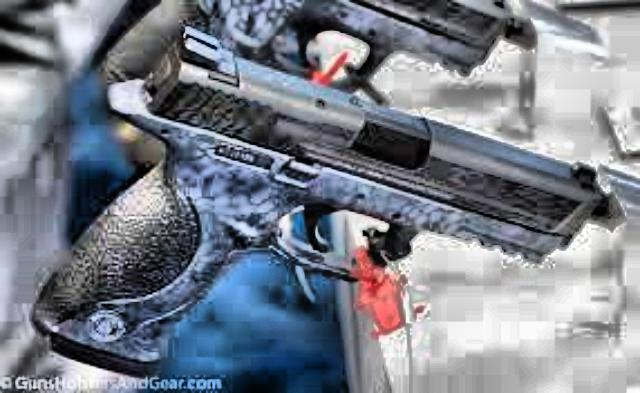pistol: (20, 22, 624, 358)
